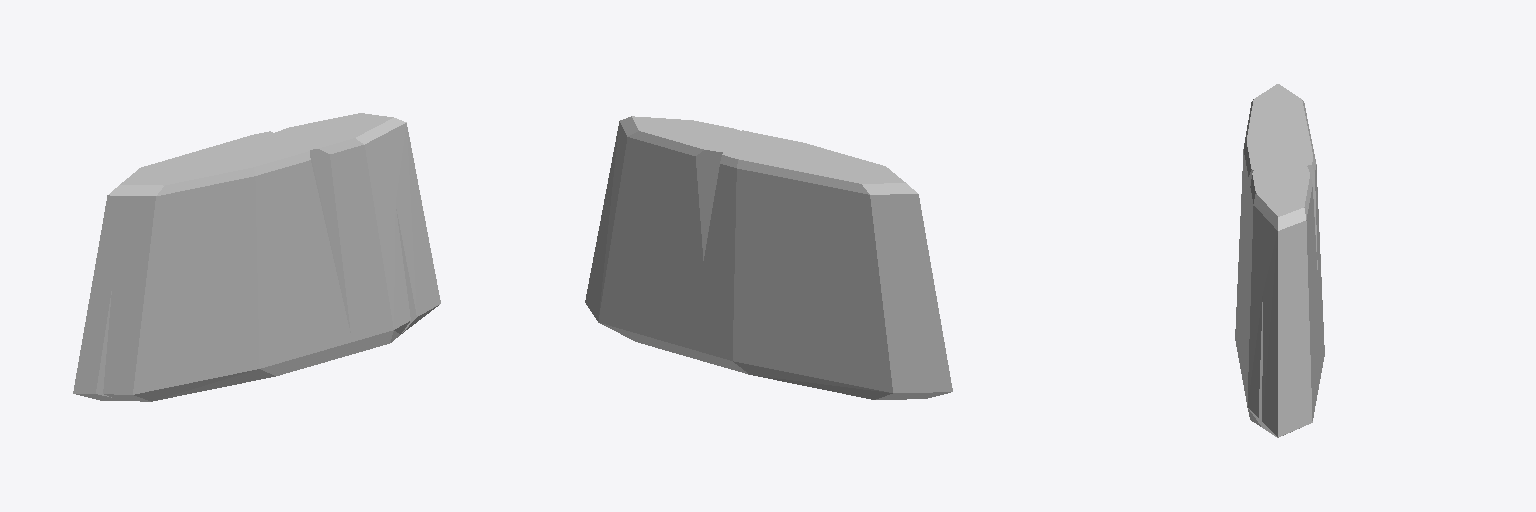
The model's file is pared.obj.
The picture shows the model from 3 angles: view 1: azimuth 30°, elevation 25°; view 2: azimuth 150°, elevation 25°; view 3: azimuth 270°, elevation 25°; orthographic projection.
Parts seen in each view (by area): view 1: pared_roca1; view 2: pared_roca1; view 3: pared_roca1.
Boxes of the visible parts, x1=… form: pared_roca1: x1=73, y1=113, x2=440, y2=401; pared_roca1: x1=585, y1=116, x2=952, y2=399; pared_roca1: x1=1235, y1=84, x2=1324, y2=437.
Bounding box in the file's own units: 191 × 105 × 40.43.